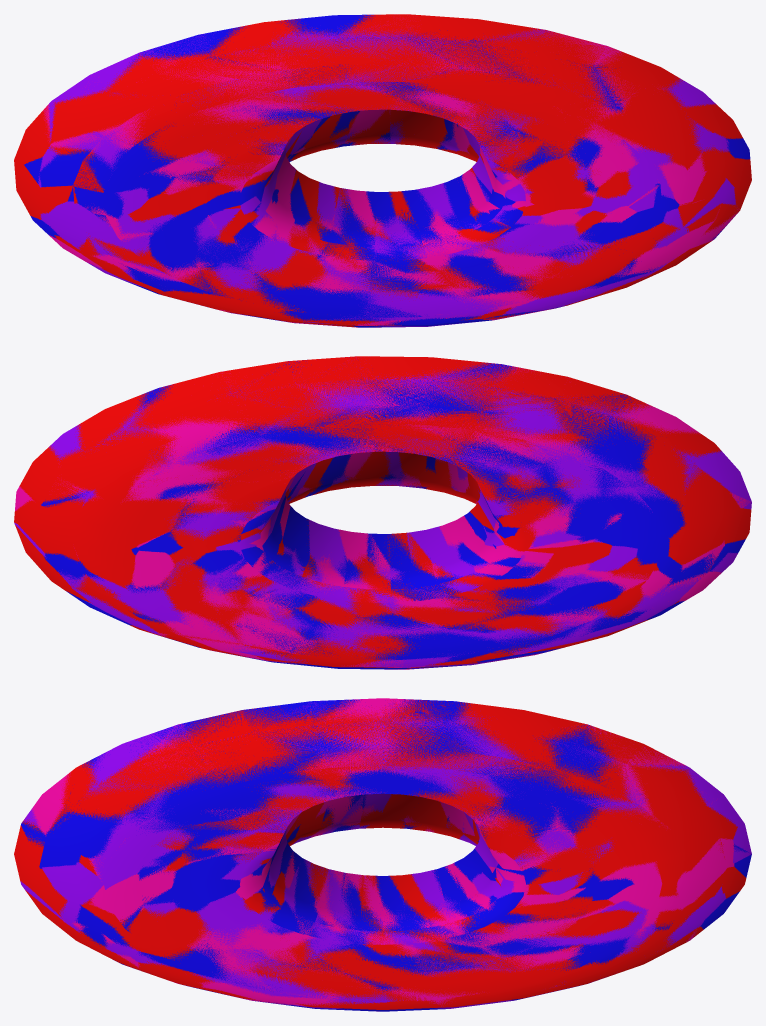
Rendered from p_mesh_plasmadrill_diameter_glow02_pose1.fbx.
3 views of the same model, one above another, from view 1: azimuth 30°, elevation 25°; view 2: azimuth 150°, elevation 25°; view 3: azimuth 270°, elevation 25° (orthographic).
Parts seen in each view (by area): view 1: plasmadrill_diameter_glow02_pose1.003; view 2: plasmadrill_diameter_glow02_pose1.003; view 3: plasmadrill_diameter_glow02_pose1.003.
Part boxes in pixels (<box>): plasmadrill_diameter_glow02_pose1.003: <box>14,14,751,327</box>; plasmadrill_diameter_glow02_pose1.003: <box>14,356,751,669</box>; plasmadrill_diameter_glow02_pose1.003: <box>14,698,751,1011</box>.
Size of the model in its own units: 11.28 by 0.8343 by 11.28.
